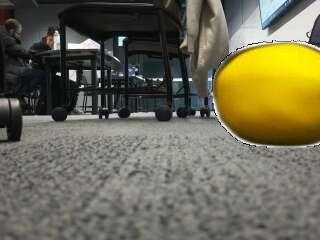lemon: (217, 46, 320, 146)
